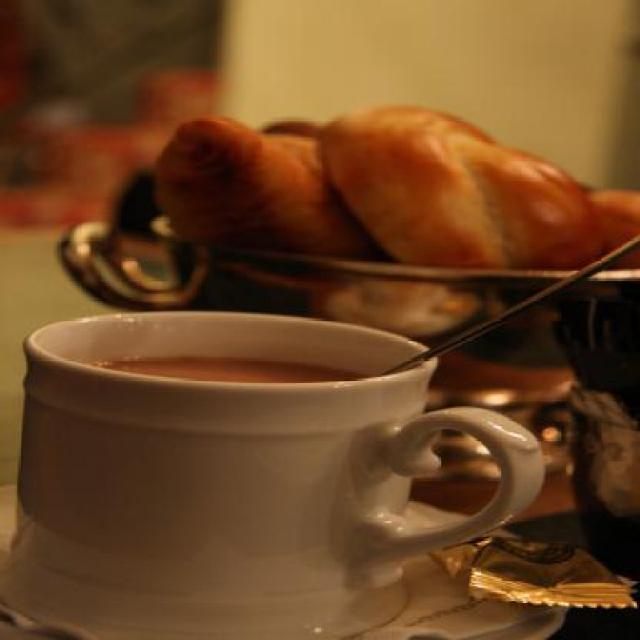Croissant: (326, 106, 638, 270)
